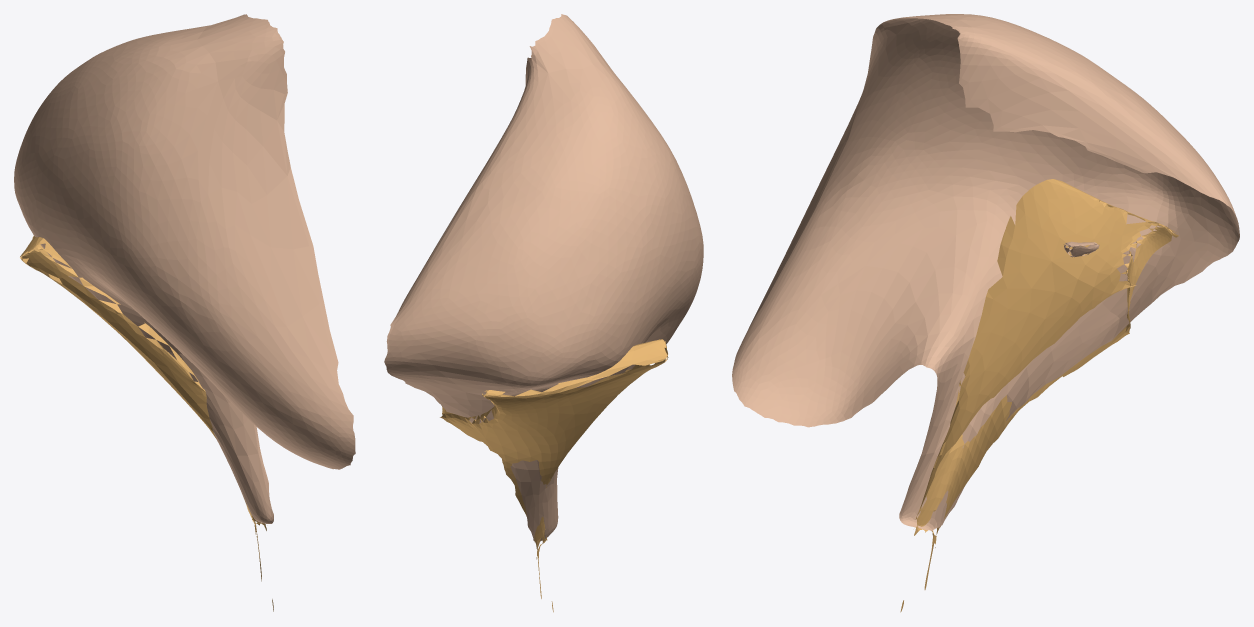
File: ipotalamo_interno.glb
3 views of the same model, side by side, from view 1: azimuth 30°, elevation 25°; view 2: azimuth 150°, elevation 25°; view 3: azimuth 270°, elevation 25° (orthographic).
Visible parts, largest first — view 1: hypothalamus, intermediate hypothalamic region; view 2: hypothalamus, intermediate hypothalamic region; view 3: hypothalamus, intermediate hypothalamic region.
Boxes of the visible parts, bbox=[...] form: hypothalamus: bbox=[14, 14, 355, 523]; intermediate hypothalamic region: bbox=[20, 236, 273, 611]; hypothalamus: bbox=[384, 14, 703, 541]; intermediate hypothalamic region: bbox=[440, 339, 668, 612]; hypothalamus: bbox=[732, 14, 1239, 530]; intermediate hypothalamic region: bbox=[900, 179, 1178, 612].
Size of the model in its own units: 7.39 by 22.76 by 17.66.
